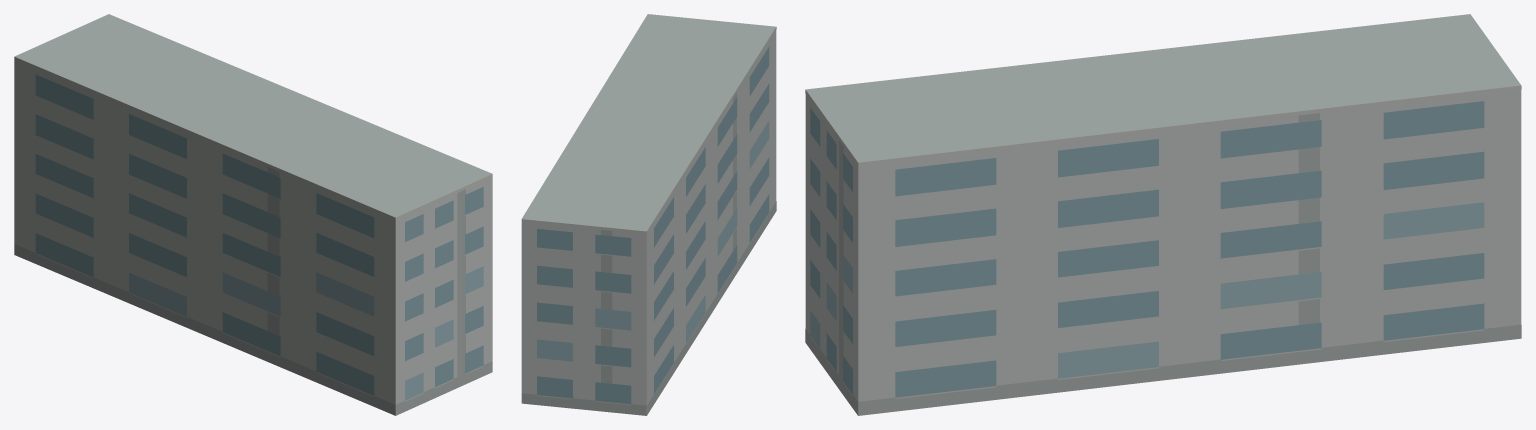
File: survey-upis-32601590.glb
3 renders of one model, left to right at view 1: azimuth 30°, elevation 25°; view 2: azimuth 150°, elevation 25°; view 3: azimuth 270°, elevation 25°, orthographic. The views are drawn at different scales.
Visible parts, largest first — view 1: survey-upis-32601590.tmp; view 2: survey-upis-32601590.tmp; view 3: survey-upis-32601590.tmp.
Part boxes in pixels (x1=…): survey-upis-32601590.tmp: x1=14, y1=14, x2=492, y2=415; survey-upis-32601590.tmp: x1=521, y1=14, x2=776, y2=415; survey-upis-32601590.tmp: x1=805, y1=14, x2=1521, y2=415.
Size of the model in its own units: 19.23 by 15.25 by 39.1.
